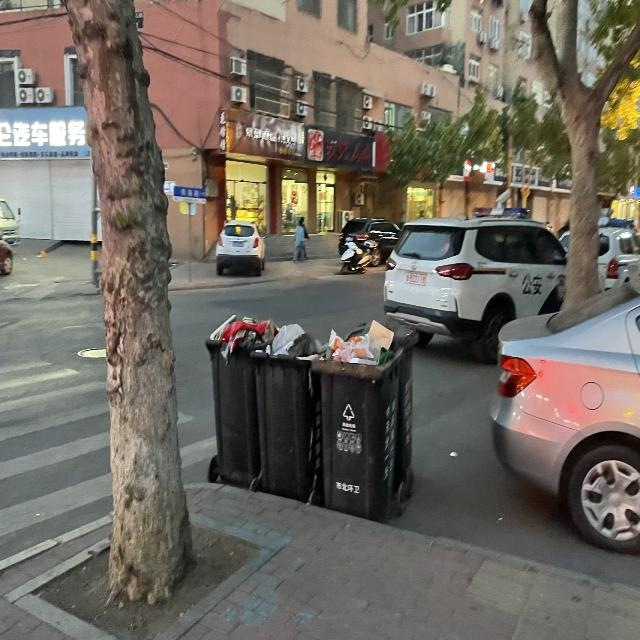garbage_bin: (378, 321, 421, 489)
overflow: (310, 319, 402, 520), (205, 313, 280, 485), (250, 322, 322, 500)
